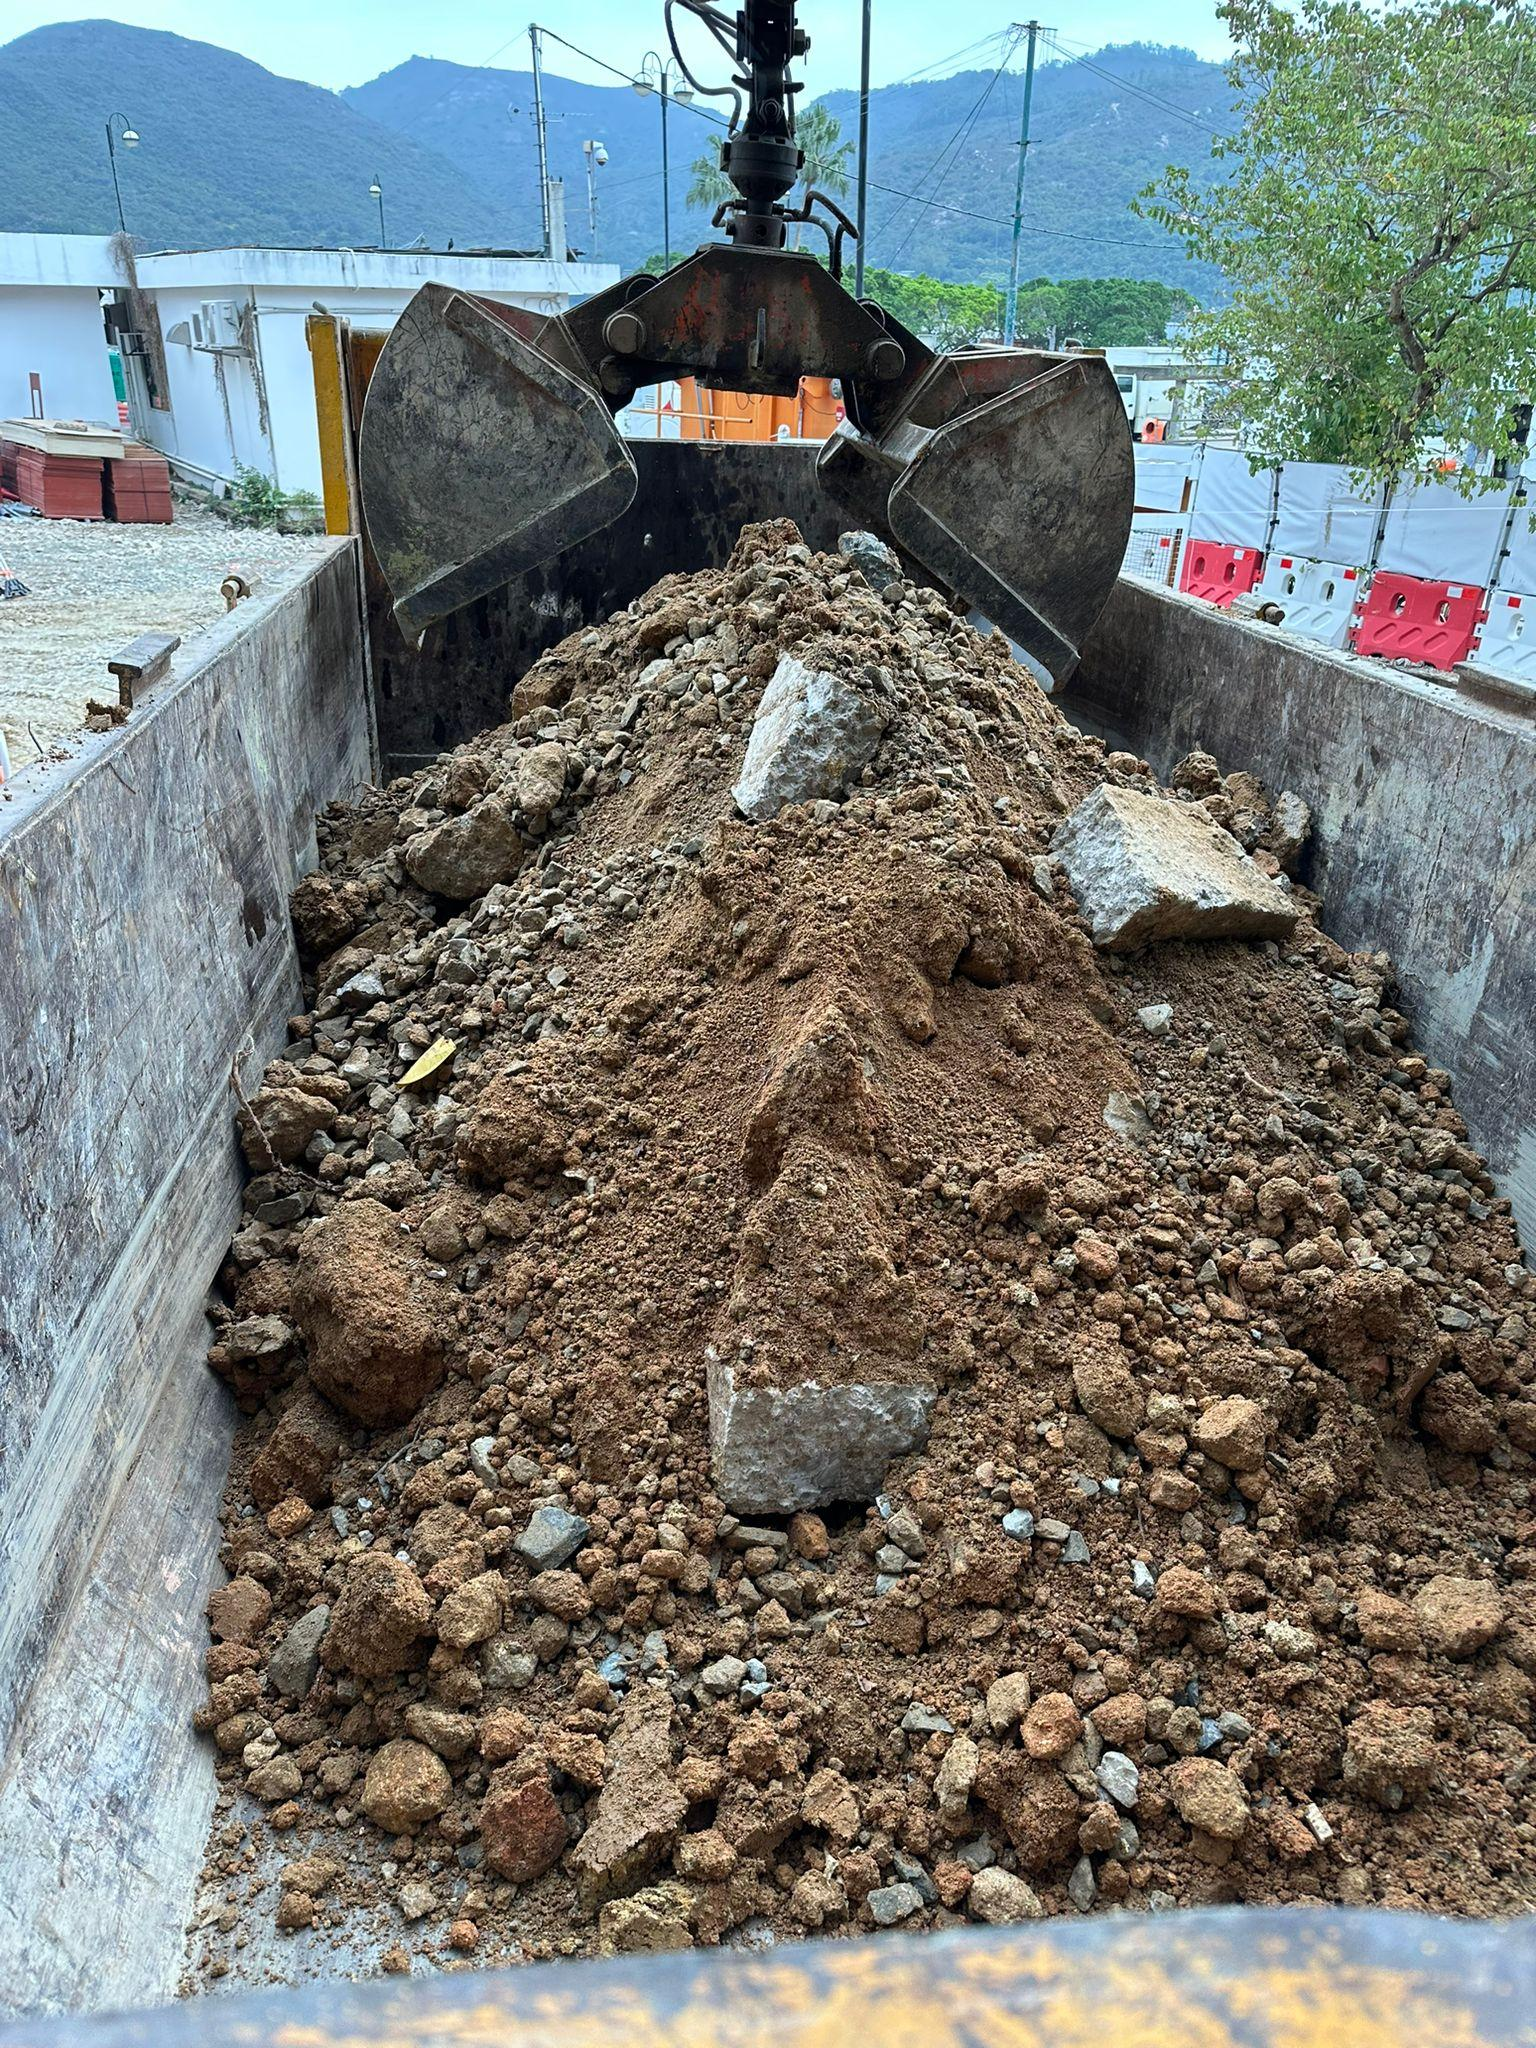dry: (231, 534, 1536, 1934)
